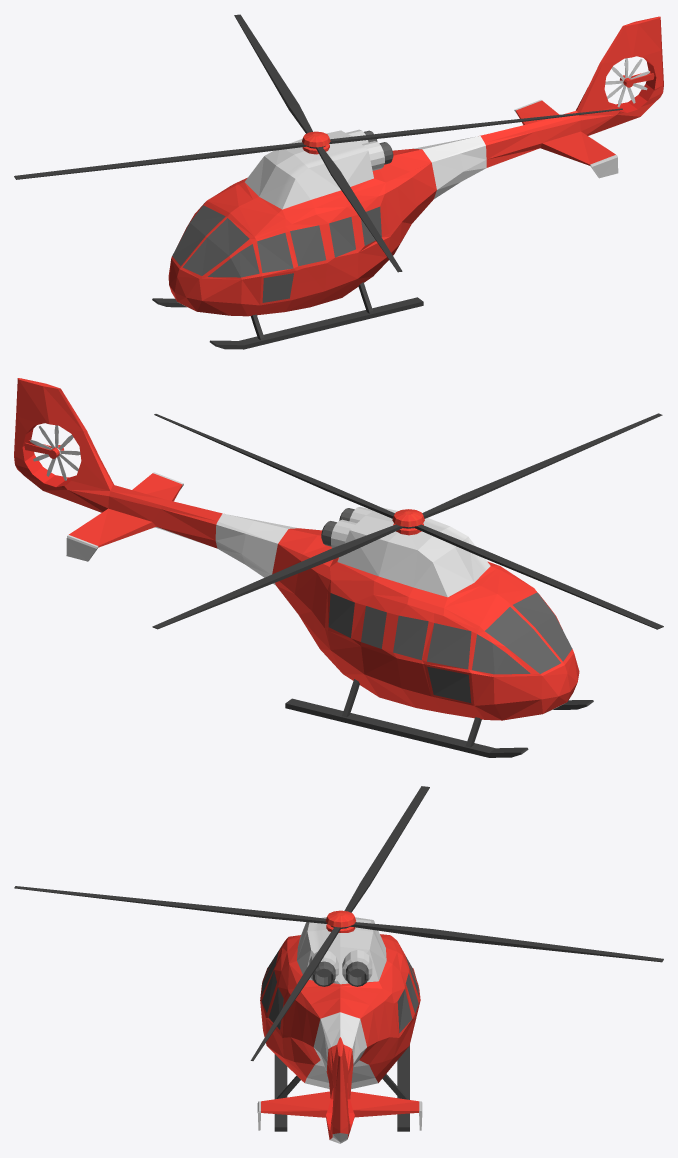
File: lowpoly_helicopter_triangulated.obj
The picture shows the model from 3 angles, top to bottom: view 1: azimuth 30°, elevation 25°; view 2: azimuth 150°, elevation 25°; view 3: azimuth 270°, elevation 25°; orthographic projection. The views are drawn at different scales.
Visible parts, largest first — view 1: Copter, Propeller_1, Legs, Propeller, Cylinder; view 2: Copter, Propeller_1, Legs, Propeller, Cylinder; view 3: Copter, Propeller_1, Legs.
Boxes of the visible parts, x1=… form: Copter: x1=168, y1=16, x2=663, y2=316; Propeller_1: x1=14, y1=14, x2=622, y2=272; Legs: x1=152, y1=282, x2=423, y2=349; Propeller: x1=605, y1=58, x2=649, y2=107; Cylinder: x1=609, y1=58, x2=656, y2=112; Copter: x1=14, y1=378, x2=579, y2=720; Propeller_1: x1=152, y1=413, x2=663, y2=629; Legs: x1=285, y1=679, x2=593, y2=757; Propeller: x1=30, y1=425, x2=80, y2=480; Cylinder: x1=22, y1=425, x2=75, y2=487; Copter: x1=257, y1=917, x2=422, y2=1143; Propeller_1: x1=14, y1=786, x2=663, y2=1060; Legs: x1=274, y1=1045, x2=409, y2=1131.
Size of the model in its own units: 4824 by 1521 by 4172.
